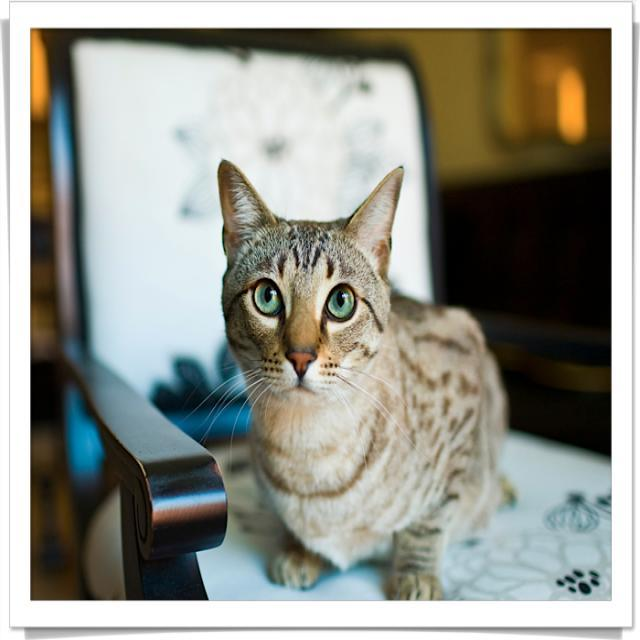Egyptian_Mau: (217, 158, 401, 403)
